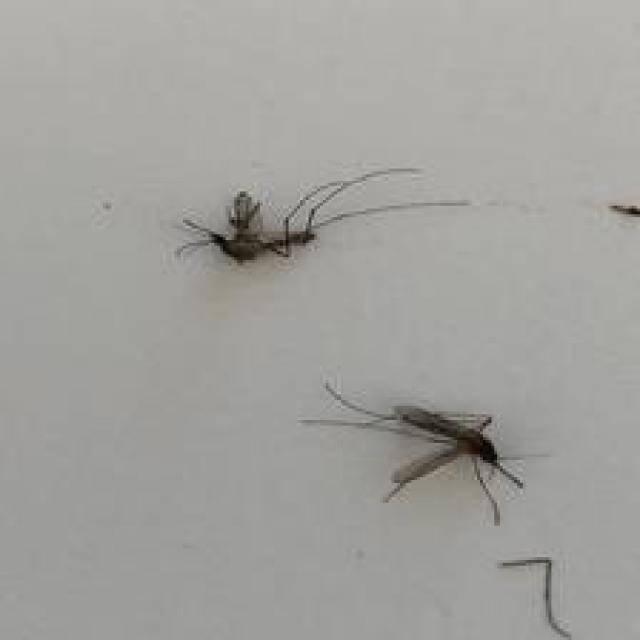Culex: (299, 377, 547, 526)
